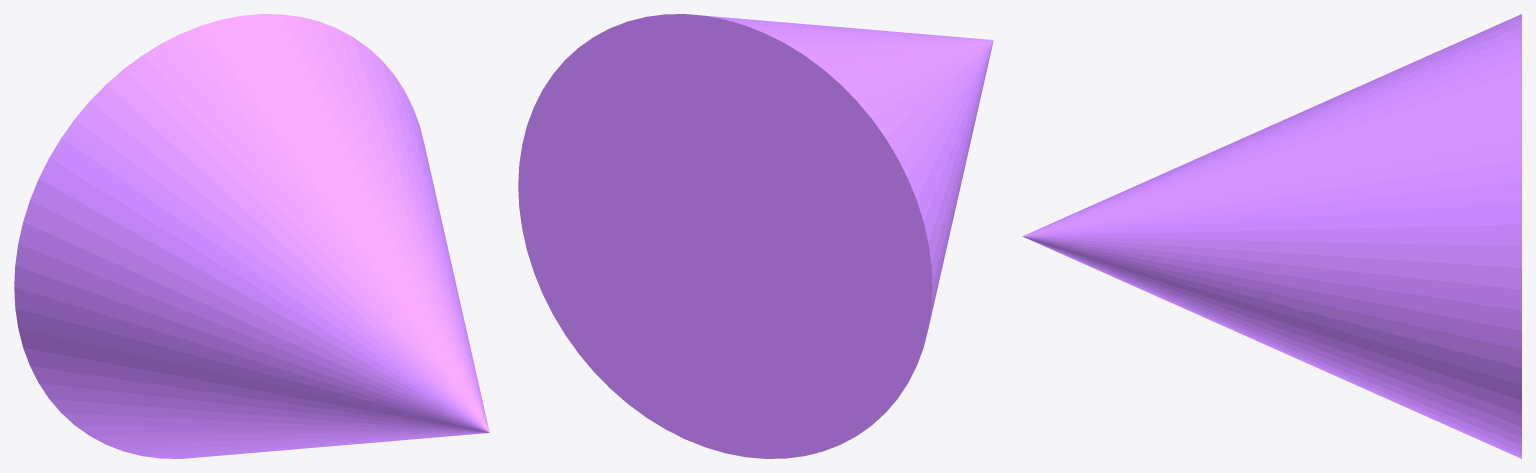
The model's file is kerucut.glb.
3 renders of one model, left to right at view 1: azimuth 30°, elevation 25°; view 2: azimuth 150°, elevation 25°; view 3: azimuth 270°, elevation 25°, orthographic. The views are drawn at different scales.
Visible parts, largest first — view 1: kerucut; view 2: kerucut; view 3: kerucut.
Boxes of the visible parts, box(x1,y1,x2,y2) form: kerucut: box(14, 14, 489, 458); kerucut: box(518, 14, 993, 458); kerucut: box(1022, 14, 1521, 458).
Bounding box in the file's own units: 1.56 × 1.56 × 1.75.
